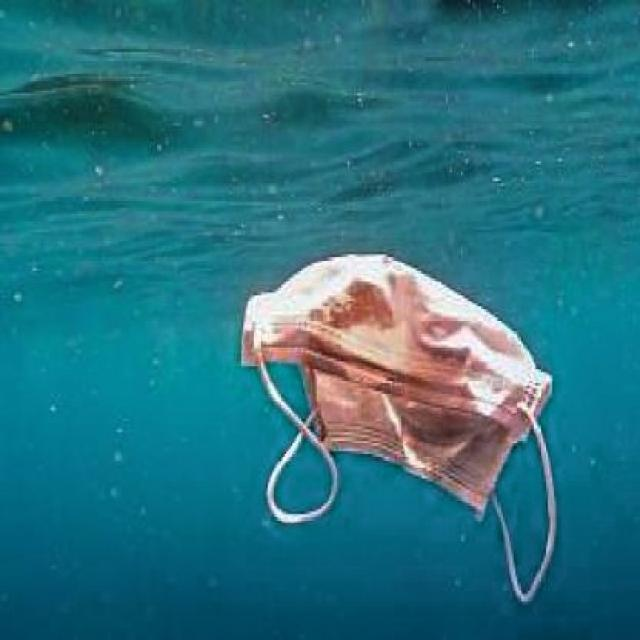Mask: (231, 257, 558, 621)
